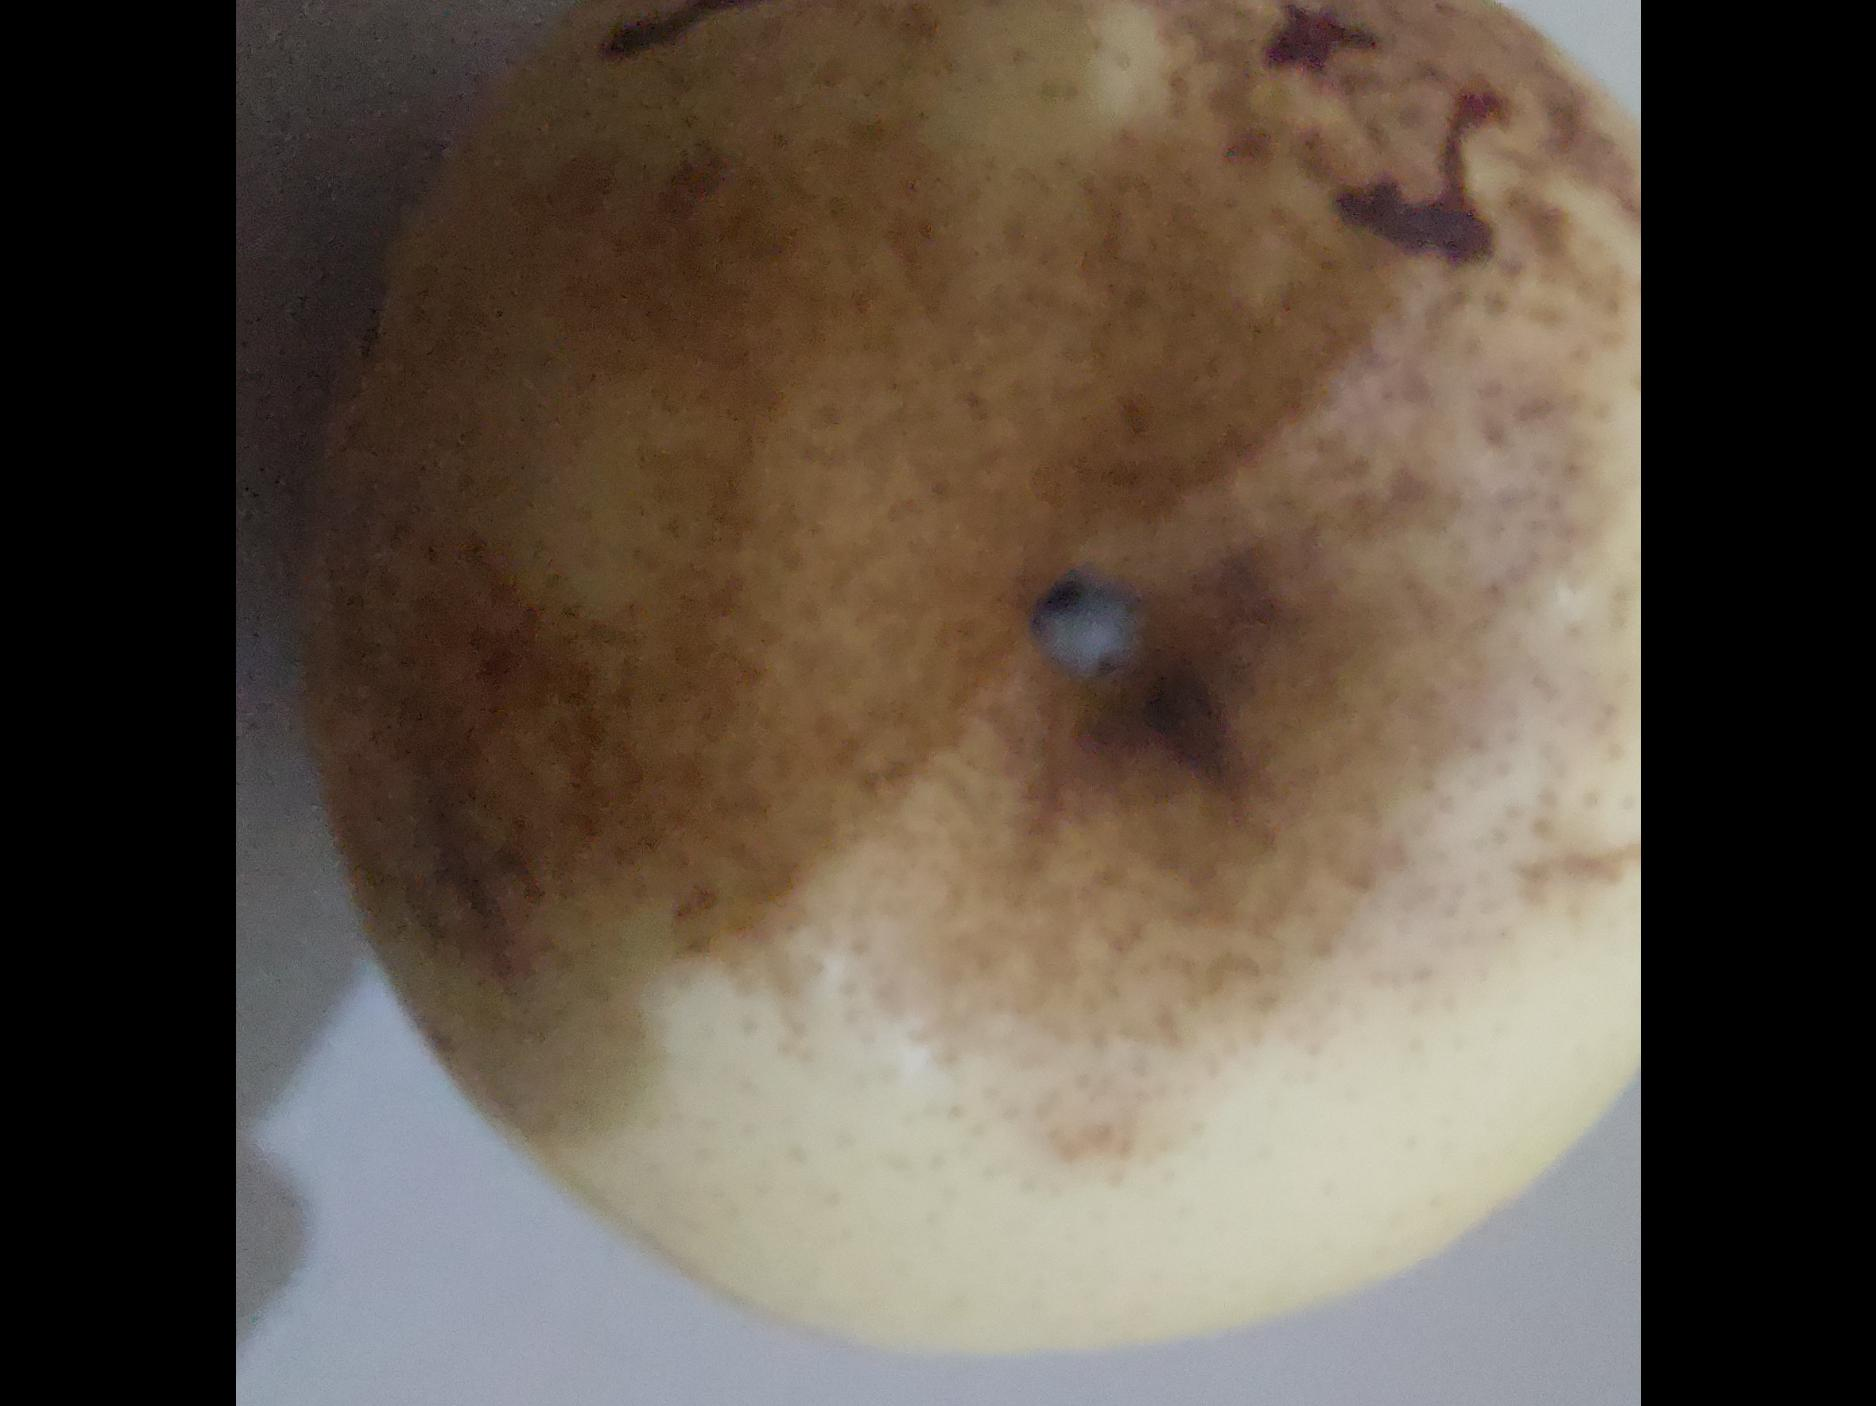Bad Pear: (332, 0, 1641, 1376)
